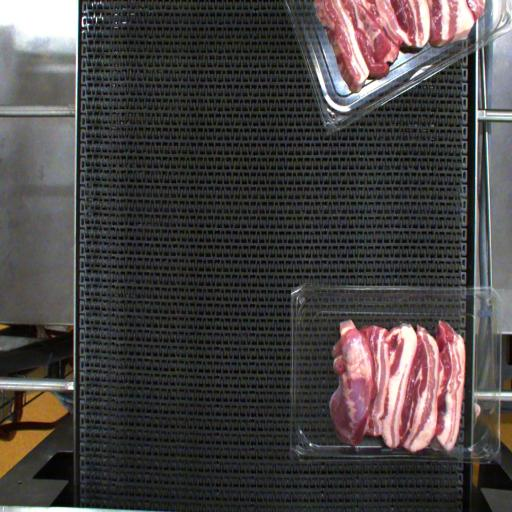twisted-meat: (322, 322, 378, 450)
